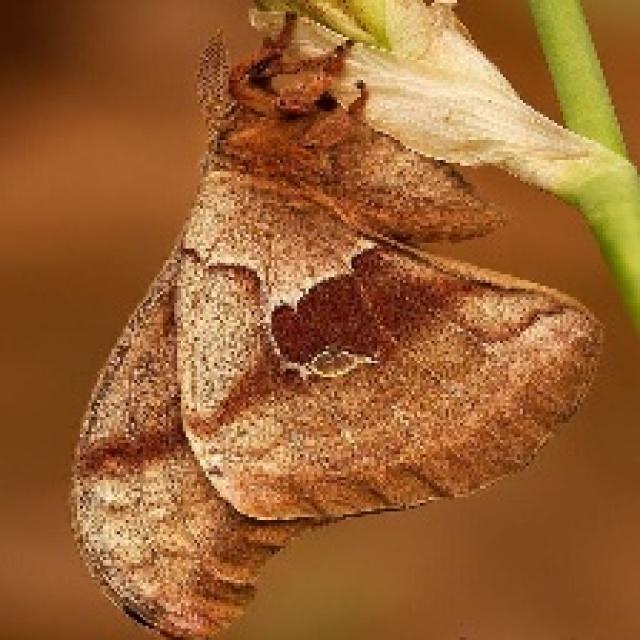butterfly: (65, 0, 606, 637)
